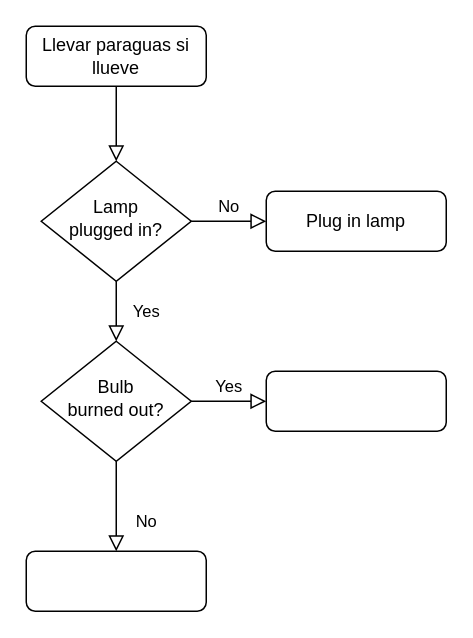
Some shapes in this 473 by 638 pixel diagram are drawn without their labels. Each missing label, with the centre of its shape:
"Repair Lamp" belongs at point (115, 580).
"Replace Bulb" belongs at point (355, 400).
